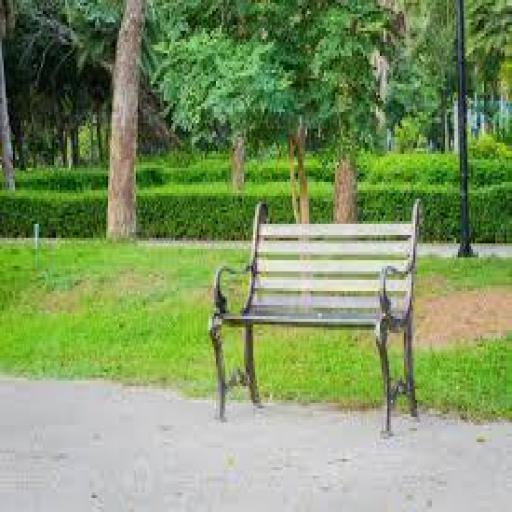chair: (207, 196, 441, 442)
